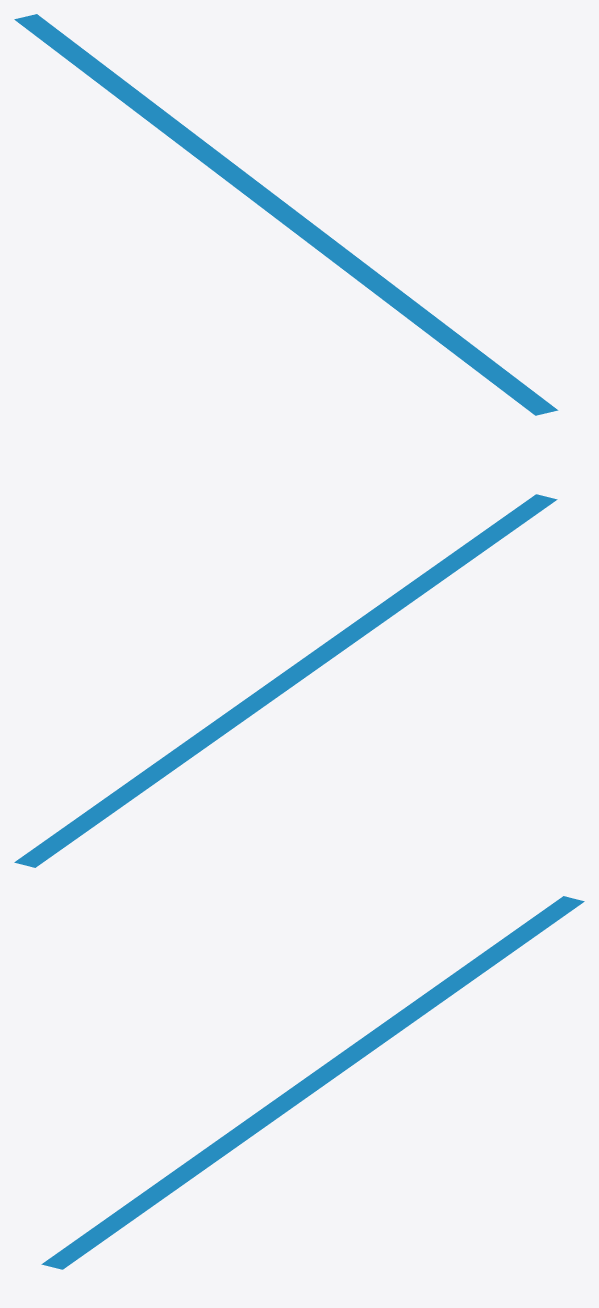
File: guide.glb
The picture shows the model from 3 angles, top to bottom: view 1: azimuth 30°, elevation 25°; view 2: azimuth 150°, elevation 25°; view 3: azimuth 330°, elevation 25°; orthographic projection. The views are drawn at different scales.
Visible parts, largest first — view 1: static; view 2: static; view 3: static.
Boxes of the visible parts, x1=… form: static: x1=14, y1=14, x2=558, y2=415; static: x1=14, y1=494, x2=557, y2=867; static: x1=41, y1=896, x2=584, y2=1269.
Size of the model in its own units: 0.9999 by 0 by 14.
